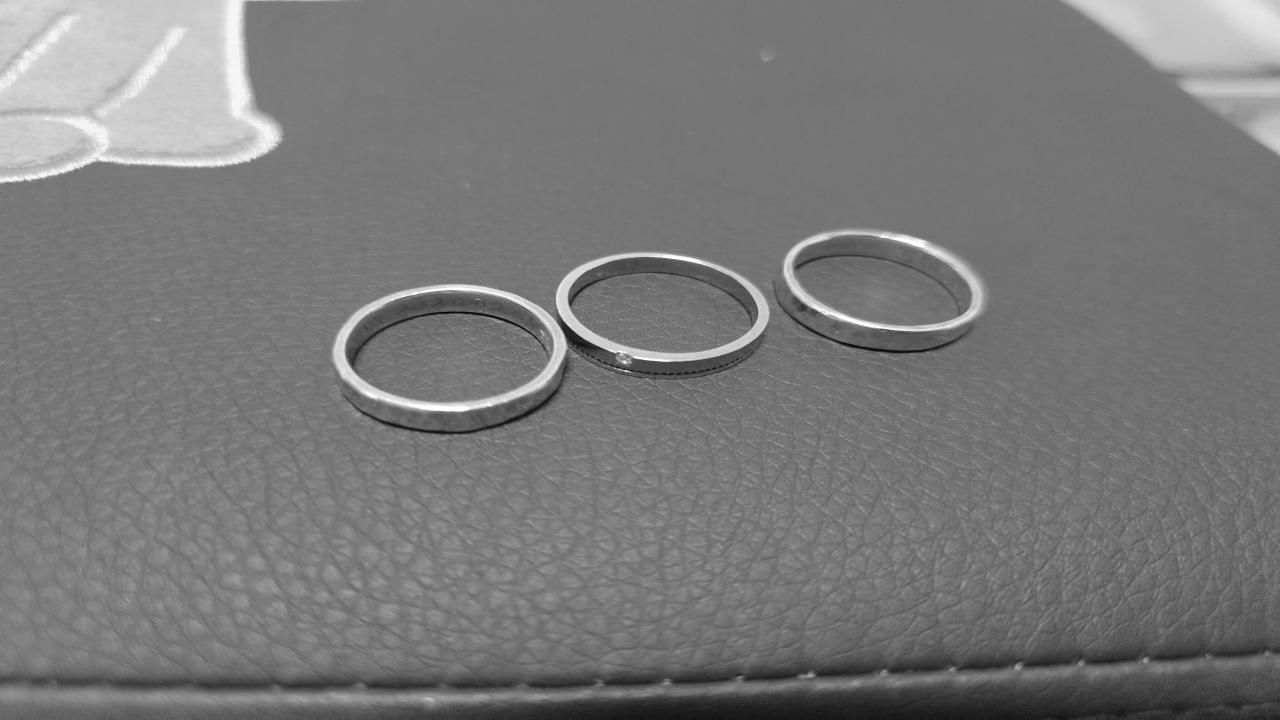ring: (328, 281, 575, 432), (775, 228, 993, 352), (552, 250, 764, 376)
